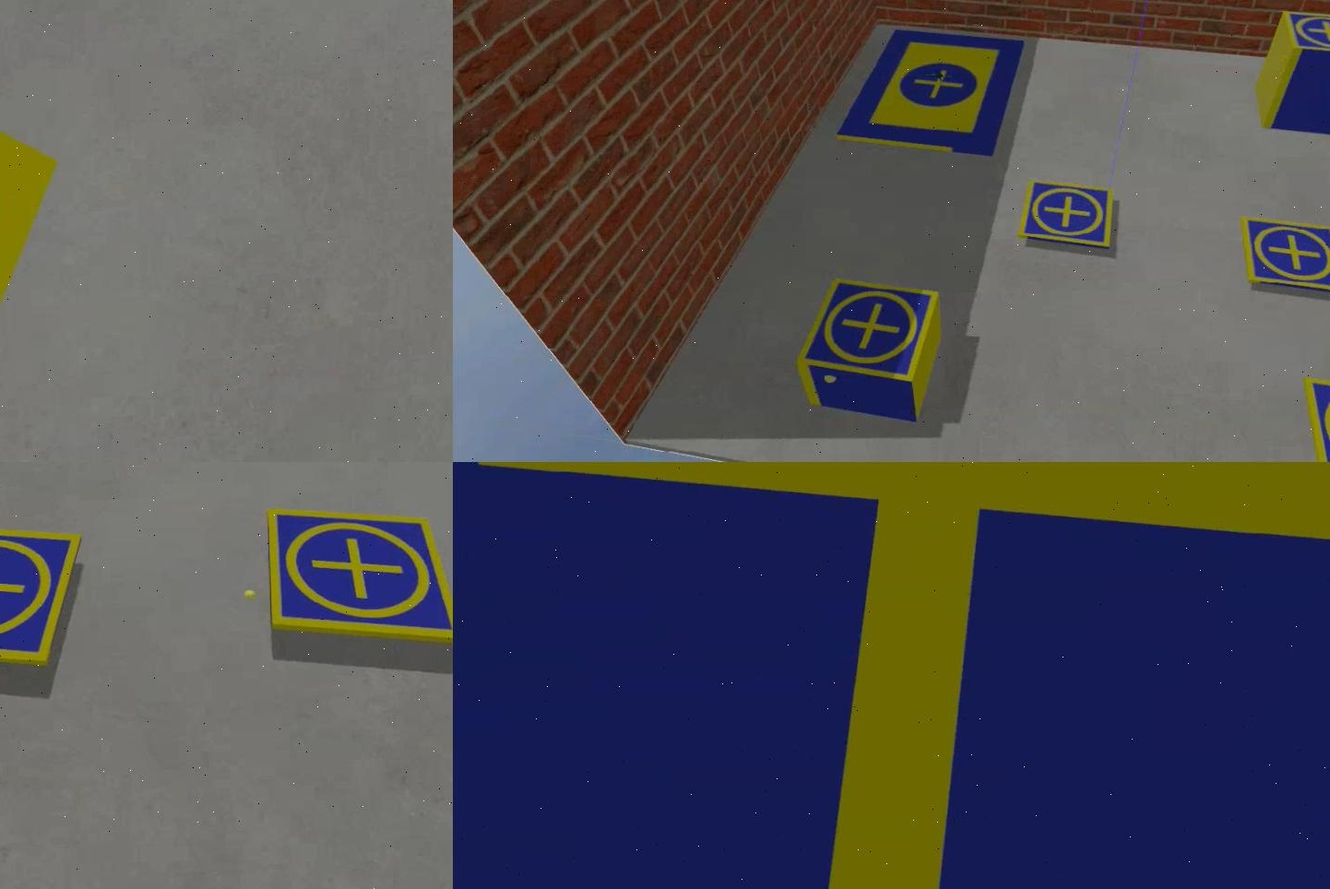large_base: (832, 28, 1023, 161)
small_base: (452, 462, 1328, 889), (262, 508, 452, 648), (791, 277, 939, 385), (0, 523, 82, 672), (1241, 215, 1328, 299), (1018, 184, 1120, 255), (1279, 10, 1328, 59)
